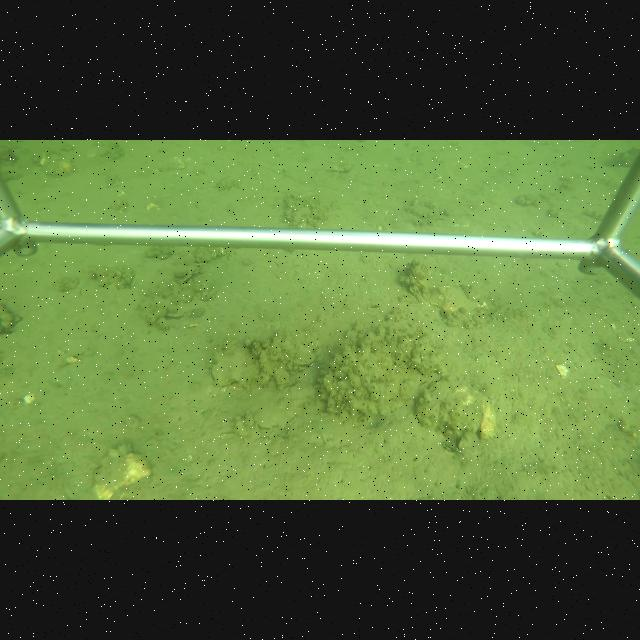Oyster-Closed: (180, 272, 193, 283)
